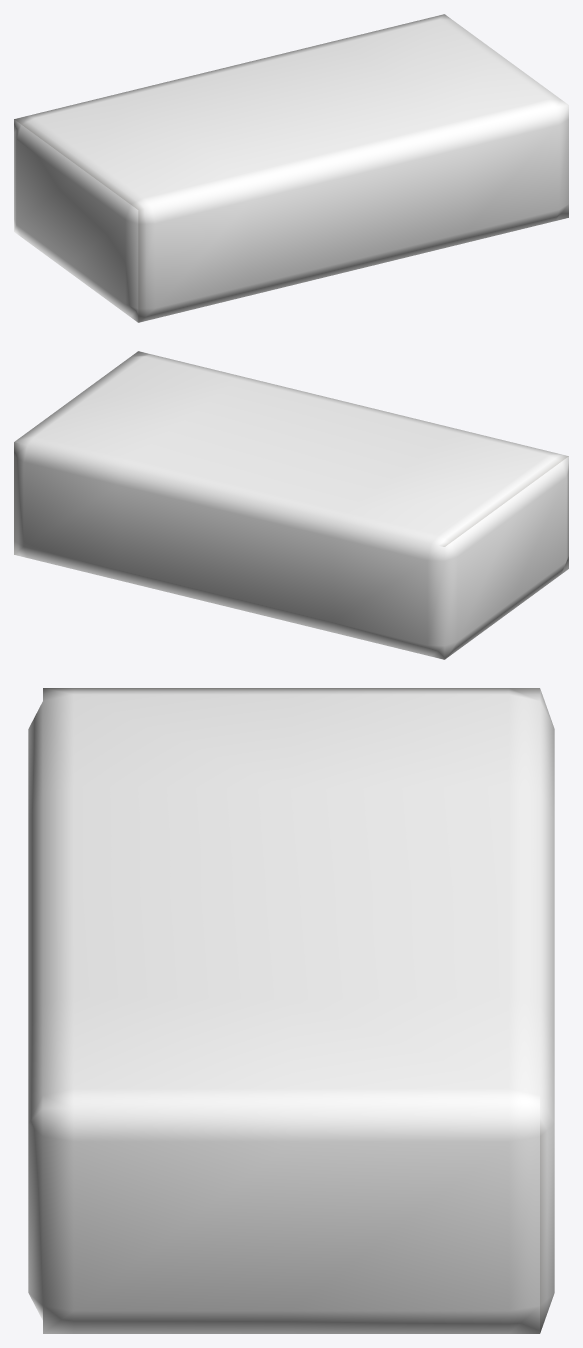
The model's file is couch_wide.obj.
3 views of the same model, one above another, from view 1: azimuth 30°, elevation 25°; view 2: azimuth 150°, elevation 25°; view 3: azimuth 270°, elevation 25° (orthographic). The views are drawn at different scales.
Parts seen in each view (by area): view 1: Couch_Cube; view 2: Couch_Cube; view 3: Couch_Cube.
Part boxes in pixels (x1,y1,x2,y2): Couch_Cube: (14,14,568,322); Couch_Cube: (14,351,568,659); Couch_Cube: (28,688,554,1333).
Size of the model in its own units: 2.05 by 0.5292 by 1.06.
